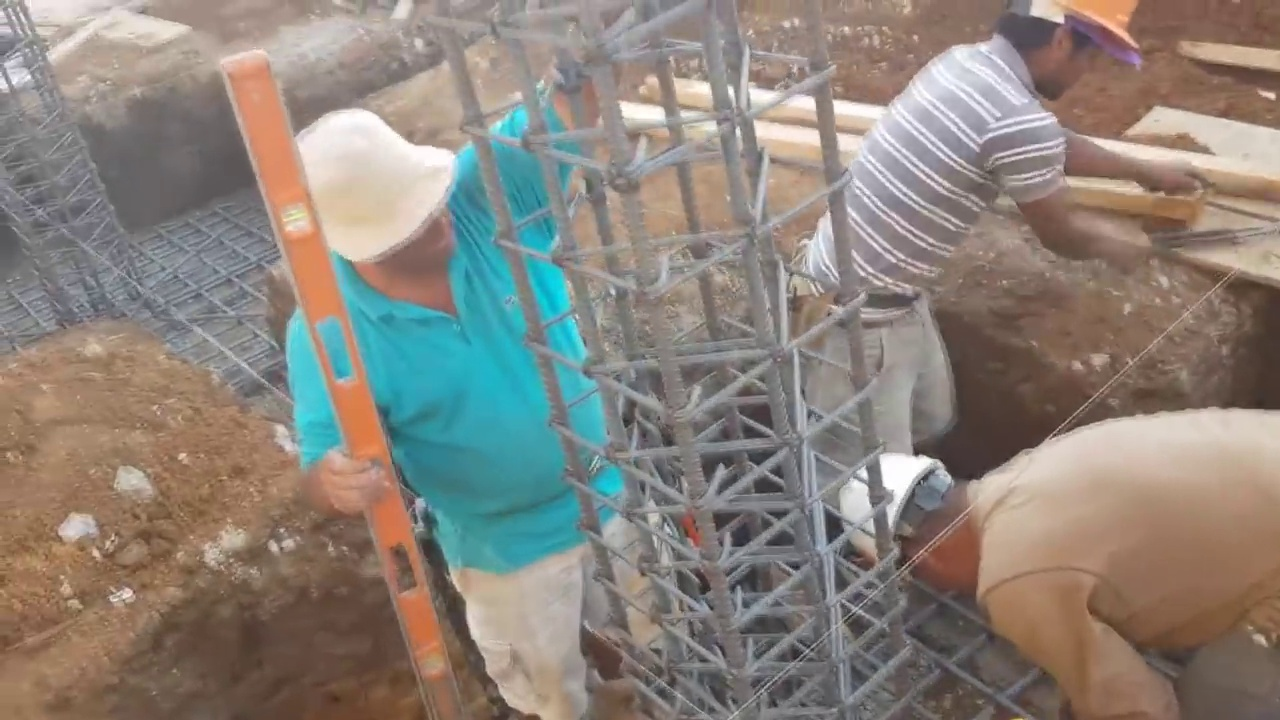helmet: (843, 443, 963, 587), (1019, 2, 1145, 61)
helmet-off: (293, 114, 462, 288)
helmet-on: (832, 441, 991, 603), (990, 4, 1157, 94)
person: (282, 48, 644, 714), (798, 4, 1152, 487), (783, 413, 1280, 720)
